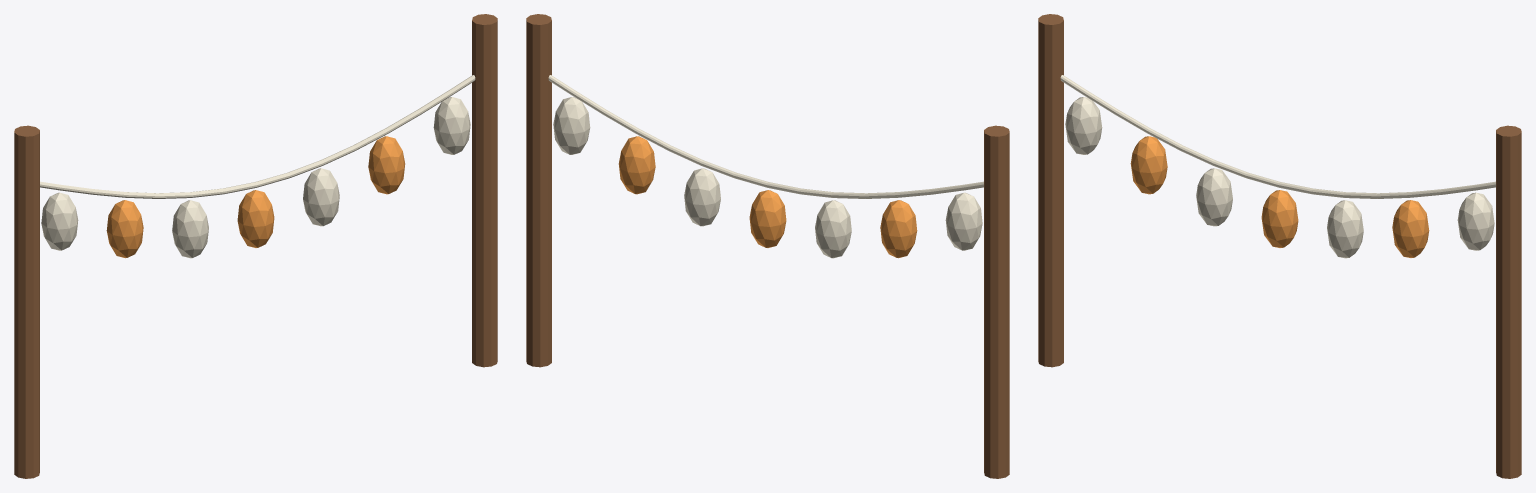
Rendered from Buoy_Garland.glb.
3 renders of one model, left to right at view 1: azimuth 30°, elevation 25°; view 2: azimuth 150°, elevation 25°; view 3: azimuth 330°, elevation 25°, orthographic.
Visible parts, largest first — view 1: Buoy_Garland; view 2: Buoy_Garland; view 3: Buoy_Garland.
Boxes of the visible parts, <box> form: Buoy_Garland: <box>14,14,497,478</box>; Buoy_Garland: <box>526,14,1009,478</box>; Buoy_Garland: <box>1038,14,1521,478</box>.
Size of the model in its own units: 1.47 by 1 by 0.1.
